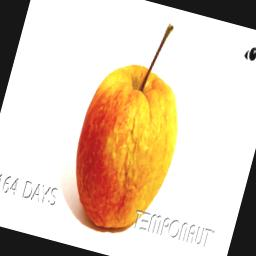Apple Overripe: (55, 0, 212, 244)
